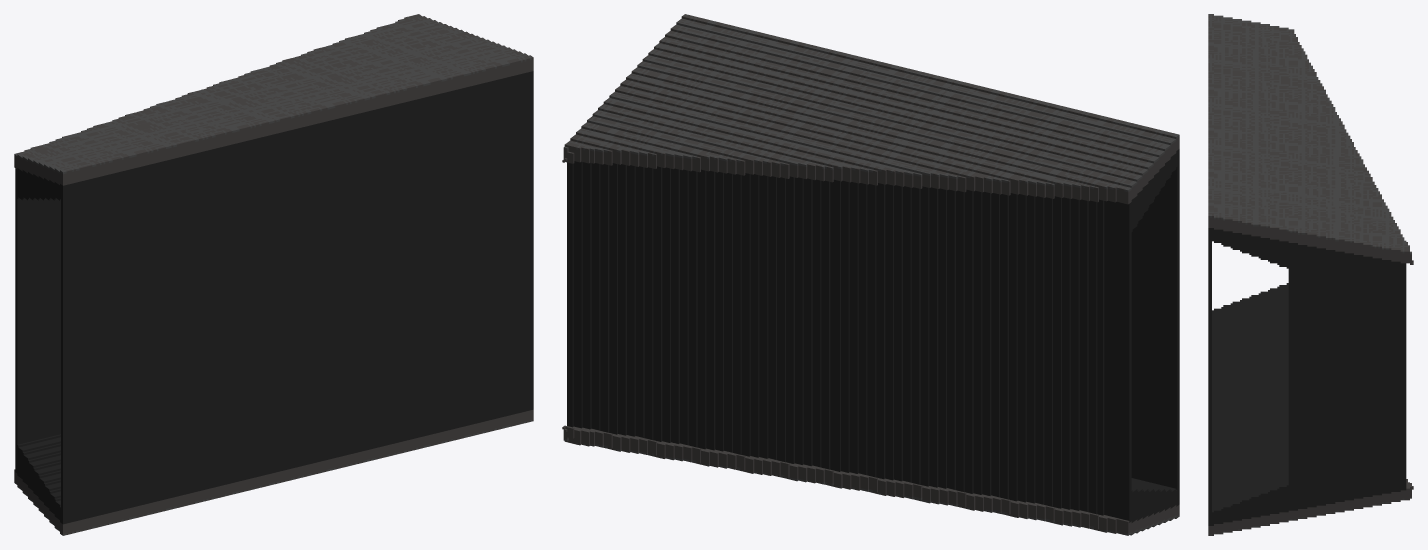
File: Space ship-9.obj
The picture shows the model from 3 angles, left to right: view 1: azimuth 30°, elevation 25°; view 2: azimuth 150°, elevation 25°; view 3: azimuth 270°, elevation 25°; orthographic projection. The views are drawn at different scales.
Bounding box in the file's own units: 25.6 × 18.9 × 11.
1 material, 1 textured.
